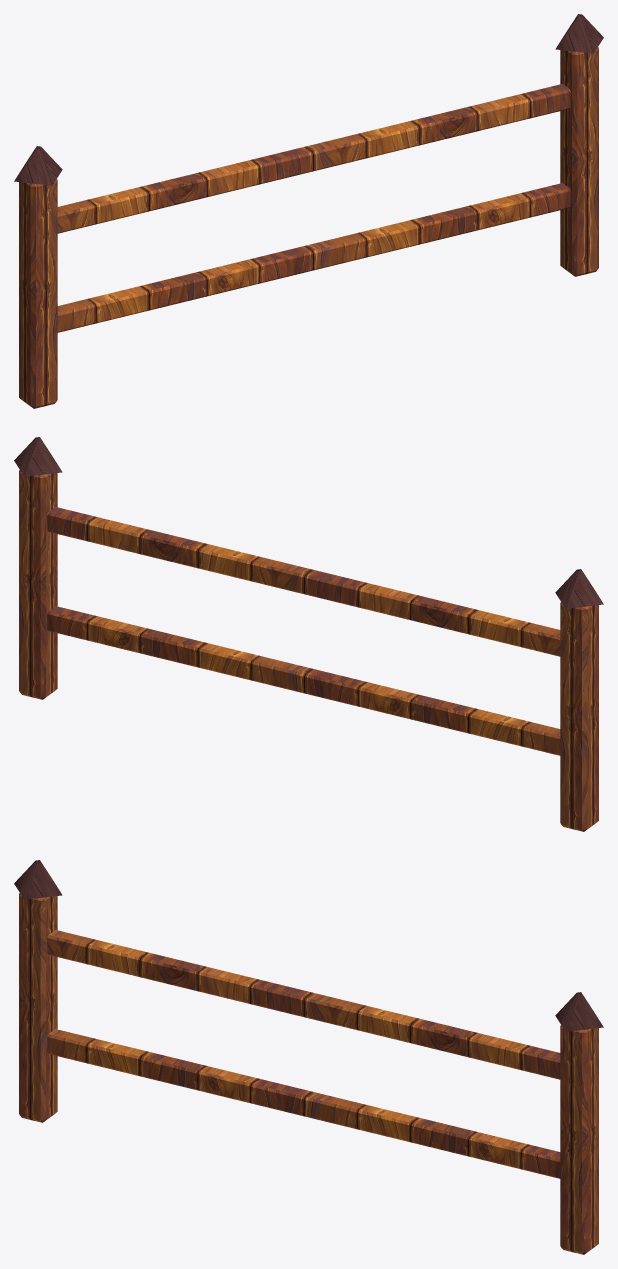
Rendered from Fence_Panel.fbx.
3 views of the same model, one above another, from view 1: azimuth 30°, elevation 25°; view 2: azimuth 150°, elevation 25°; view 3: azimuth 330°, elevation 25° (orthographic).
Parts seen in each view (by area): view 1: Fence_Panel.001; view 2: Fence_Panel.001; view 3: Fence_Panel.001.
Part boxes in pixels (bbox=[...]): Fence_Panel.001: bbox=[14, 14, 603, 408]; Fence_Panel.001: bbox=[14, 437, 603, 831]; Fence_Panel.001: bbox=[14, 860, 603, 1254].
Bounding box in the file's own units: 436 × 180 × 36.
2 materials, 2 textured.
